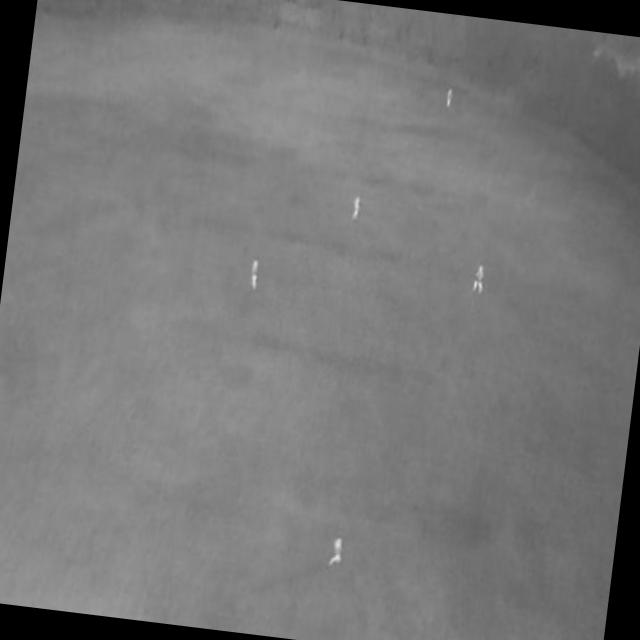person: (326, 532, 347, 571), (471, 265, 487, 297), (248, 259, 263, 293), (351, 194, 363, 223), (445, 87, 455, 110)
